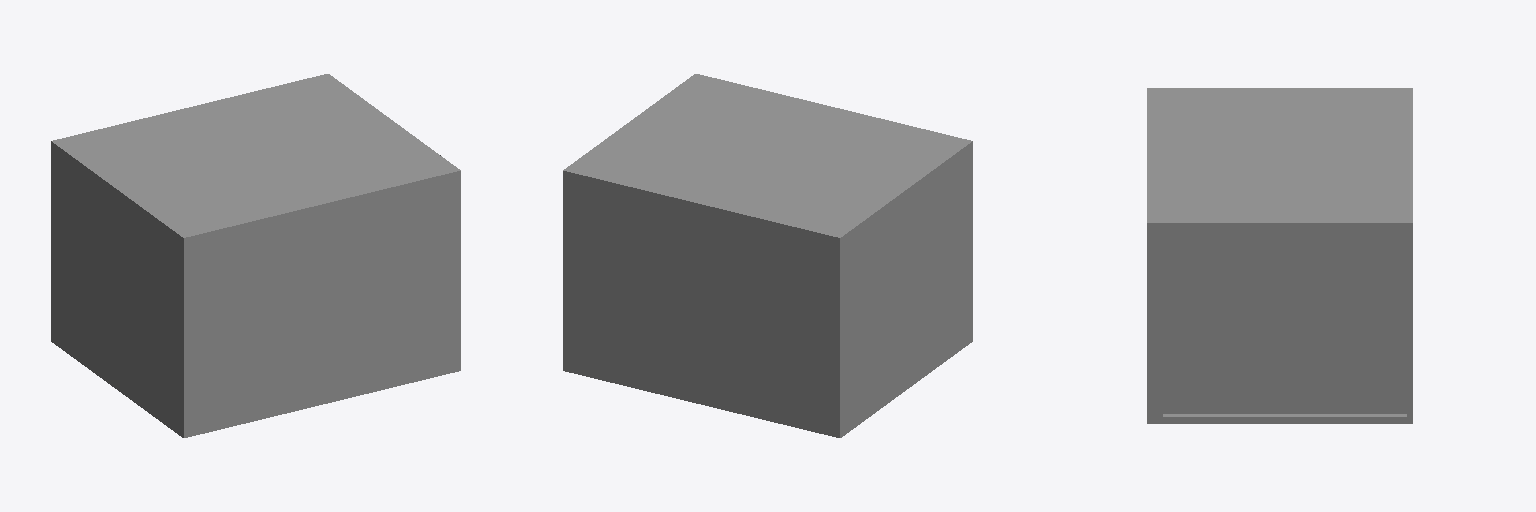
Rendered from office15_layout.obj.
The picture shows the model from 3 angles: view 1: azimuth 30°, elevation 25°; view 2: azimuth 150°, elevation 25°; view 3: azimuth 270°, elevation 25°; orthographic projection.
Parts seen in each view (by area): view 1: walls.005, ceiling.017, floor.012; view 2: walls.005, ceiling.017, floor.012; view 3: pane.030, ceiling.017, walls.005, floor.012.
Boxes of the visible parts, x1,y1,x2,y2 form: walls.005: [51, 74, 460, 431]; ceiling.017: [68, 79, 438, 228]; floor.012: [51, 335, 460, 437]; walls.005: [563, 74, 972, 431]; ceiling.017: [579, 82, 951, 232]; floor.012: [563, 335, 972, 437]; pane.030: [1163, 272, 1406, 413]; ceiling.017: [1163, 95, 1406, 216]; walls.005: [1147, 88, 1412, 416]; floor.012: [1147, 414, 1412, 423].
Bounding box in the file's own units: 9.84 × 6.8 × 8.16.